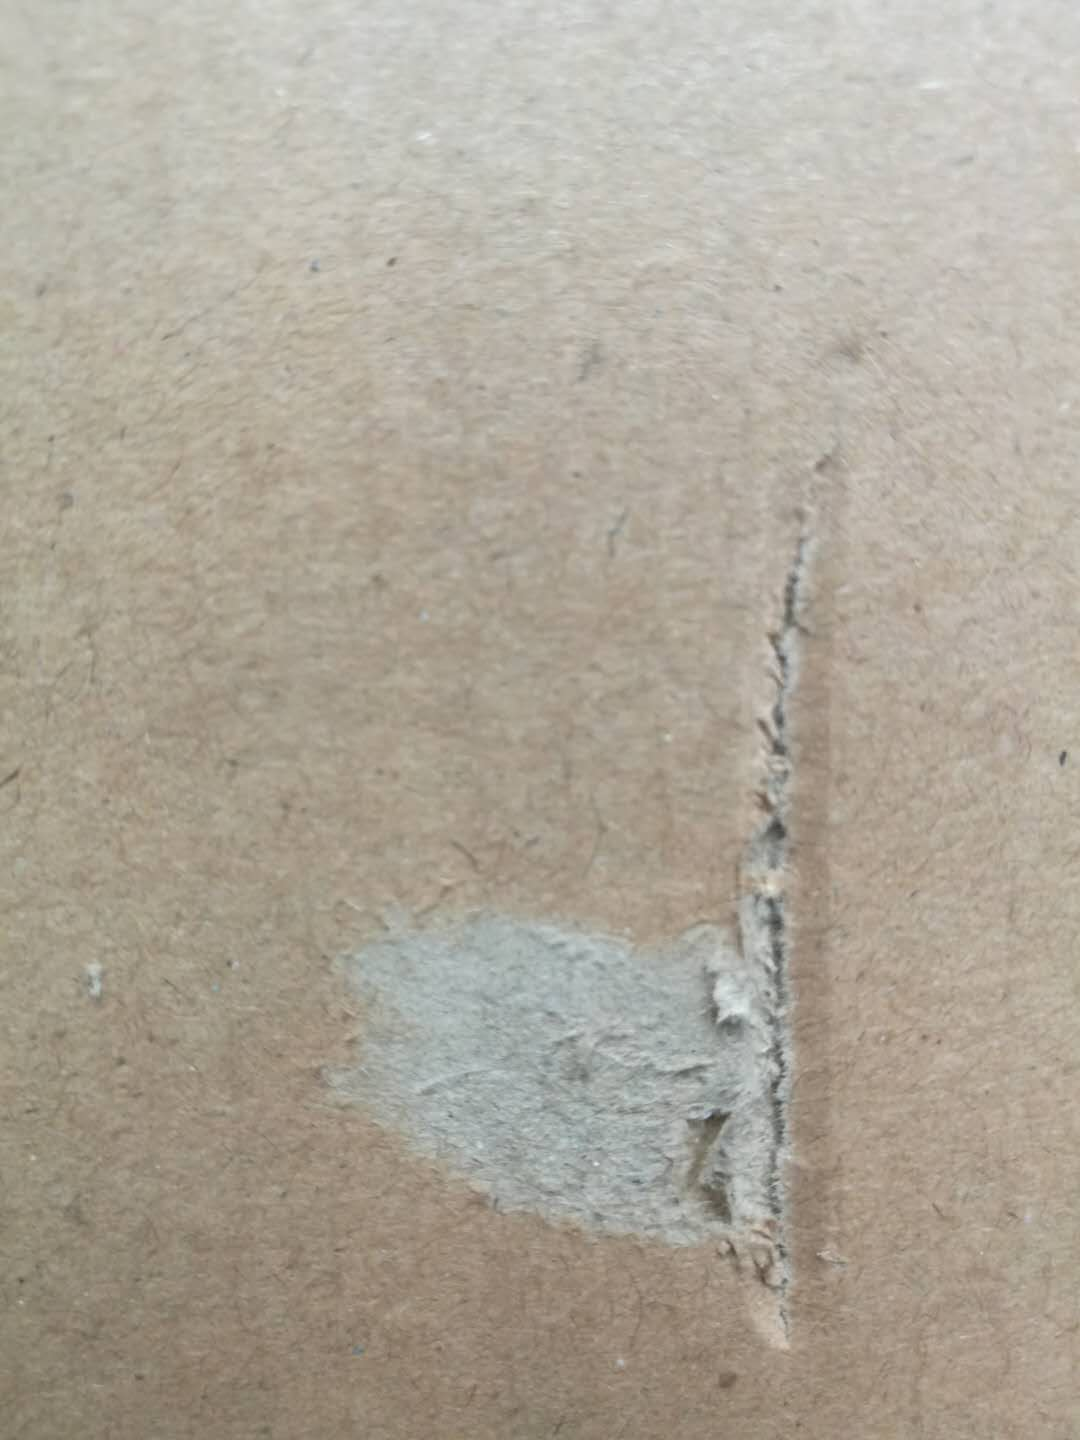defect: (286, 407, 914, 1387)
